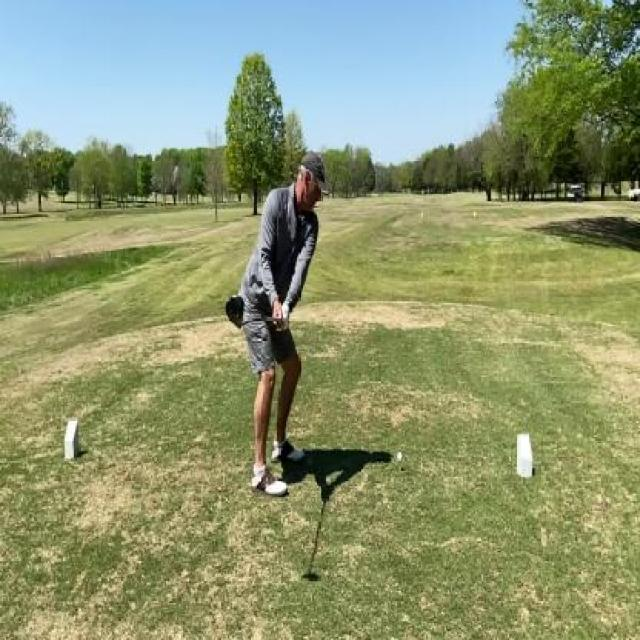club head: (225, 292, 248, 330)
